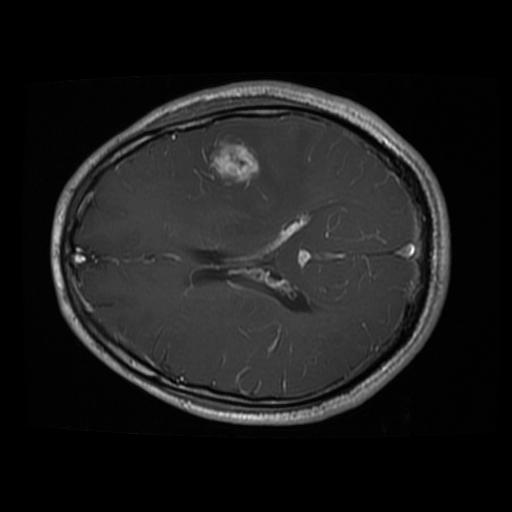glioma: (191, 128, 262, 197)
